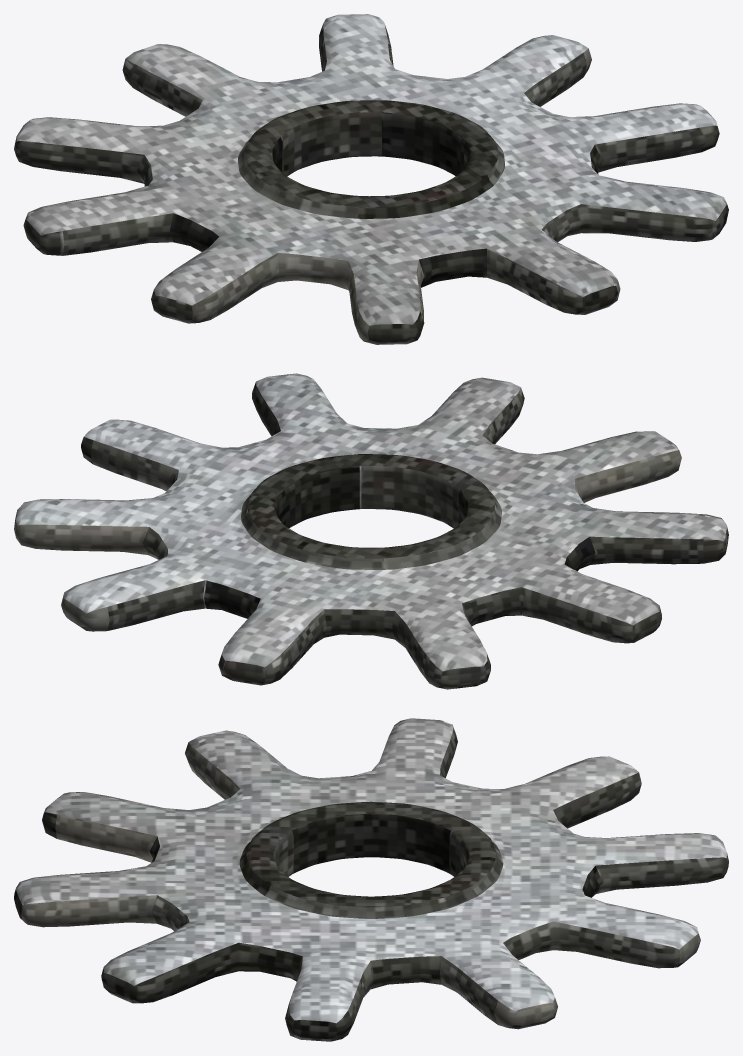
Rendered from Gear2.fbx.
The picture shows the model from 3 angles, top to bottom: view 1: azimuth 30°, elevation 25°; view 2: azimuth 150°, elevation 25°; view 3: azimuth 270°, elevation 25°; orthographic projection. The views are drawn at different scales.
Visible parts, largest first — view 1: Bolts1; view 2: Bolts1; view 3: Bolts1.
Part boxes in pixels (box(x1,y1,x2,y2)): Bolts1: box(14, 14, 728, 344); Bolts1: box(14, 373, 728, 689); Bolts1: box(14, 718, 728, 1041).
Bounding box in the file's own units: 1.37 × 0.097 × 1.37.
Materials: 1 (1 with a texture image).
